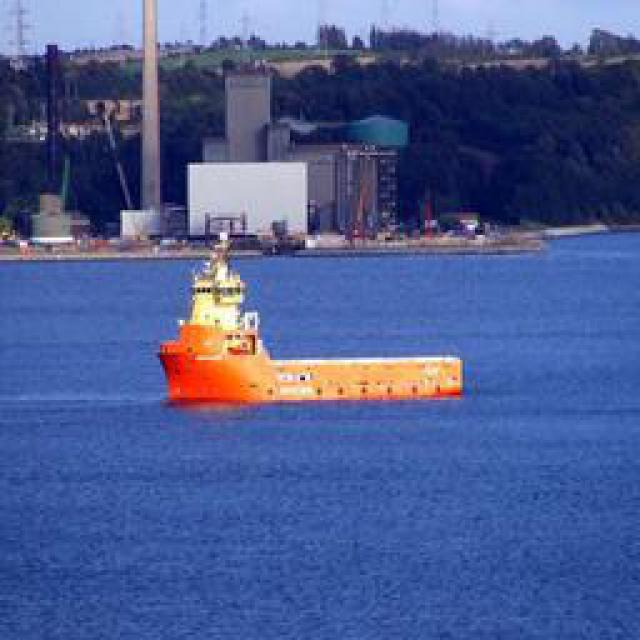Ship: (152, 230, 462, 413)
